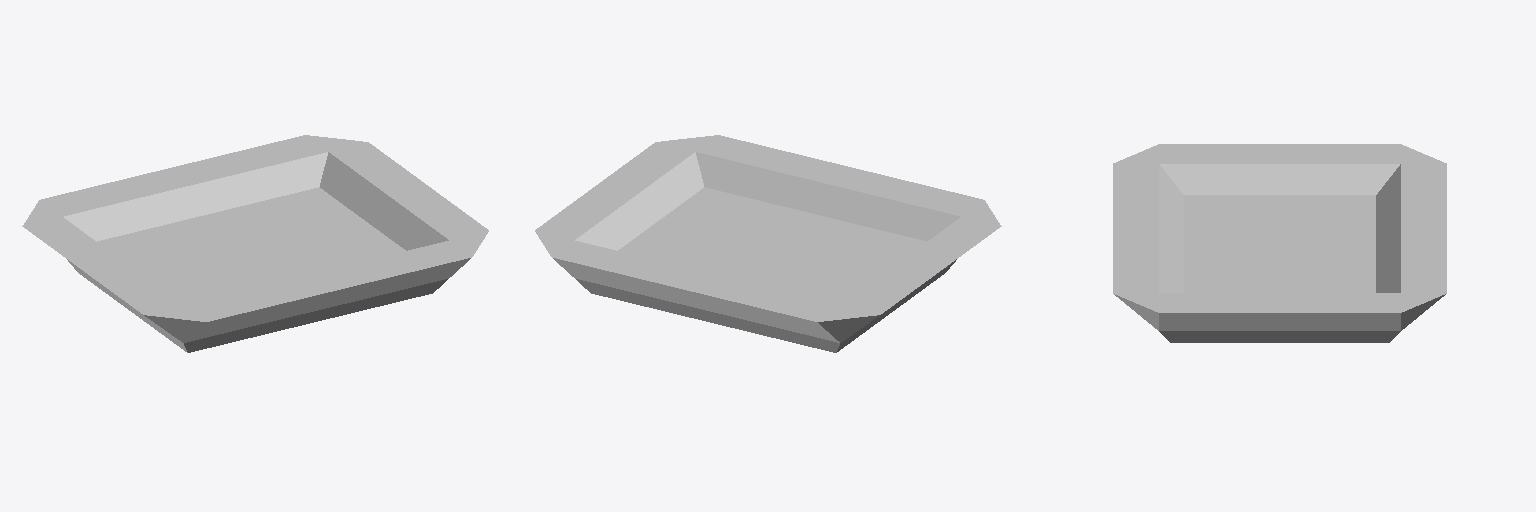
Rendered from plateRectangle.obj.
3 views of the same model, side by side, from view 1: azimuth 30°, elevation 25°; view 2: azimuth 150°, elevation 25°; view 3: azimuth 270°, elevation 25° (orthographic).
Parts seen in each view (by area): view 1: plateRectangle; view 2: plateRectangle; view 3: plateRectangle.
Part boxes in pixels (x1,y1,x2,y2): plateRectangle: (22, 135, 488, 352); plateRectangle: (535, 135, 1001, 352); plateRectangle: (1113, 144, 1446, 342).
Bounding box in the file's own units: 0.8586 × 0.13 × 0.7186.